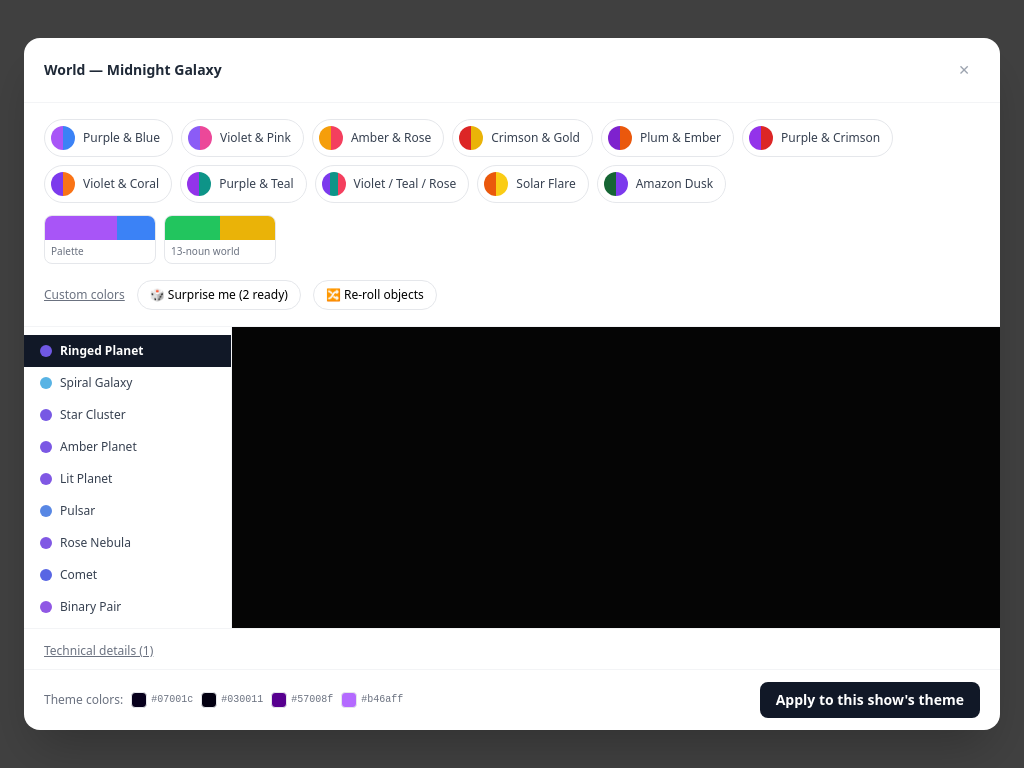
Test case: WorldPaletteEditor › clears a stale re-roll error once the host picks a shelf row (finding #5)
Step 1. Click the button "🔀 Re-roll objects" → (375, 295), box 313,280 -> 437,310
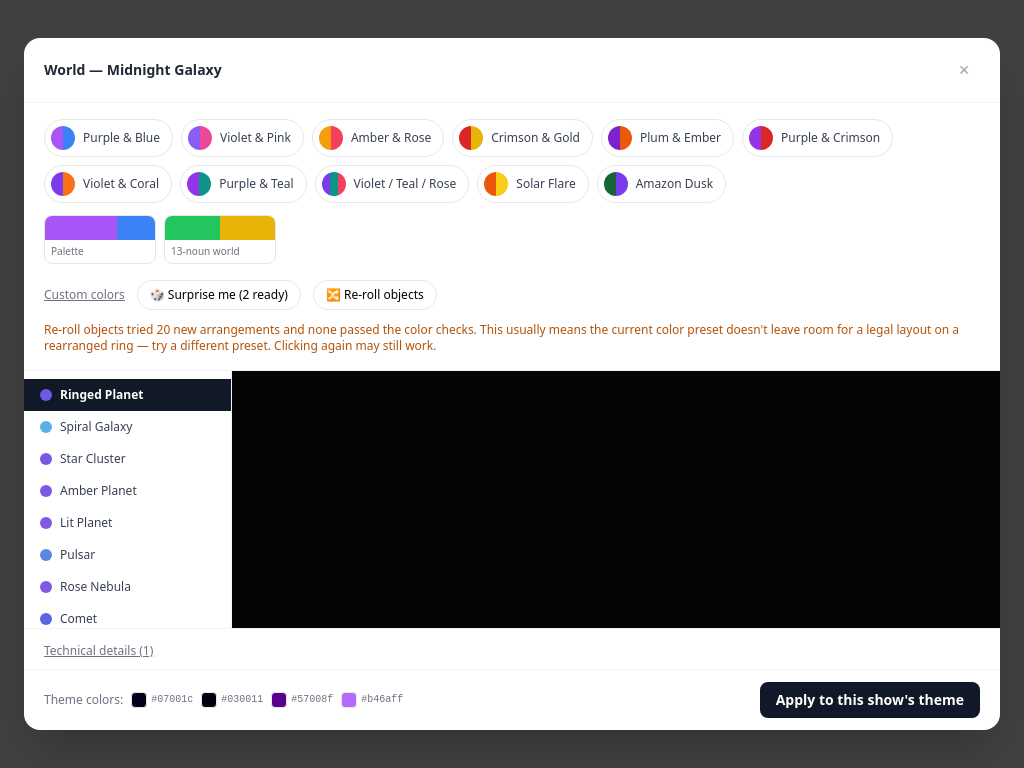
Check: the text "none passed the color checks" is shown, box 44,321 -> 959,354
Step 2. Click the button "13-noun world" → (220, 240), box 164,215 -> 276,264
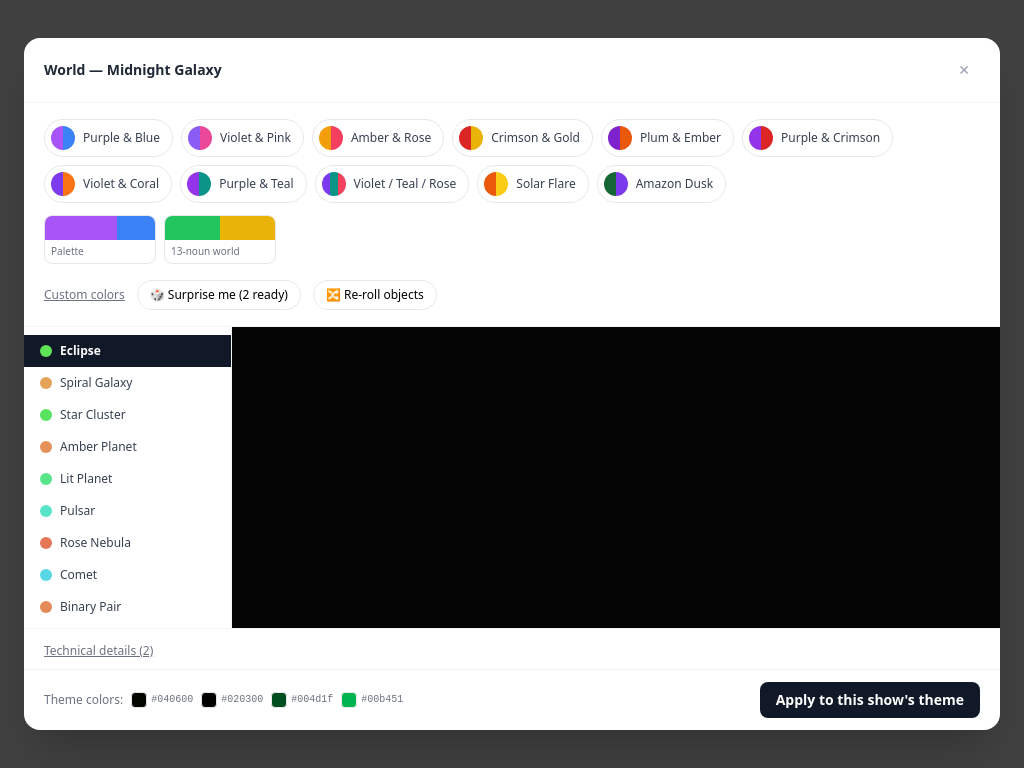
Check: the text "none passed the color checks" is gone
